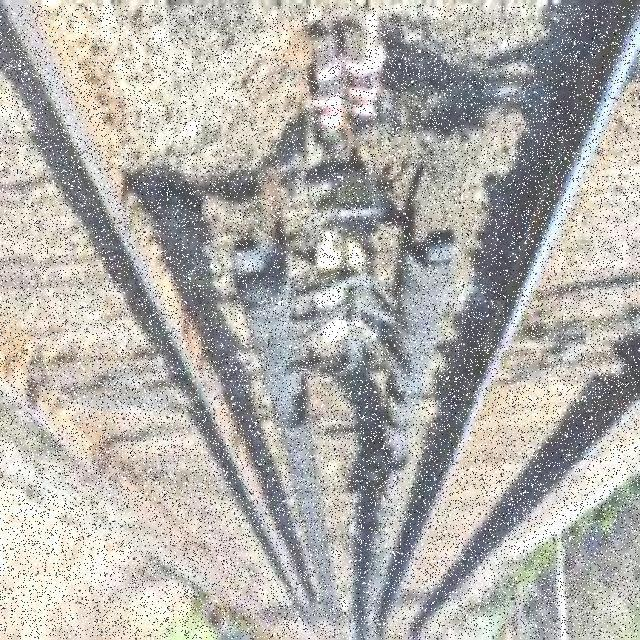rail: (0, 6, 640, 639)
